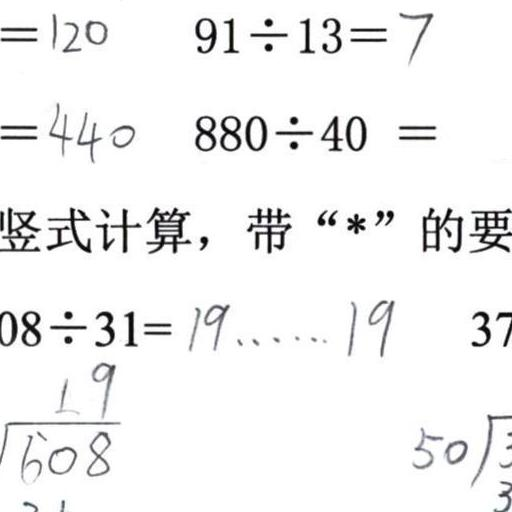ans: (182, 292, 394, 358), (44, 98, 135, 163), (45, 8, 107, 53), (394, 4, 434, 63)
